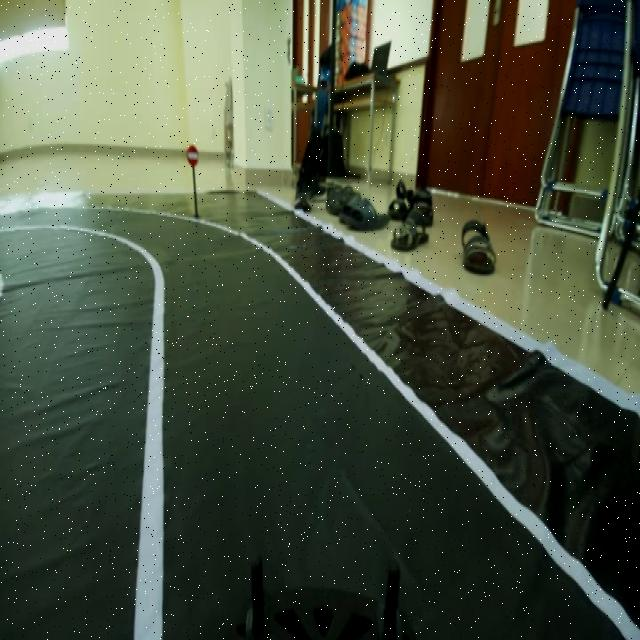no_entry: (180, 140, 202, 174)
